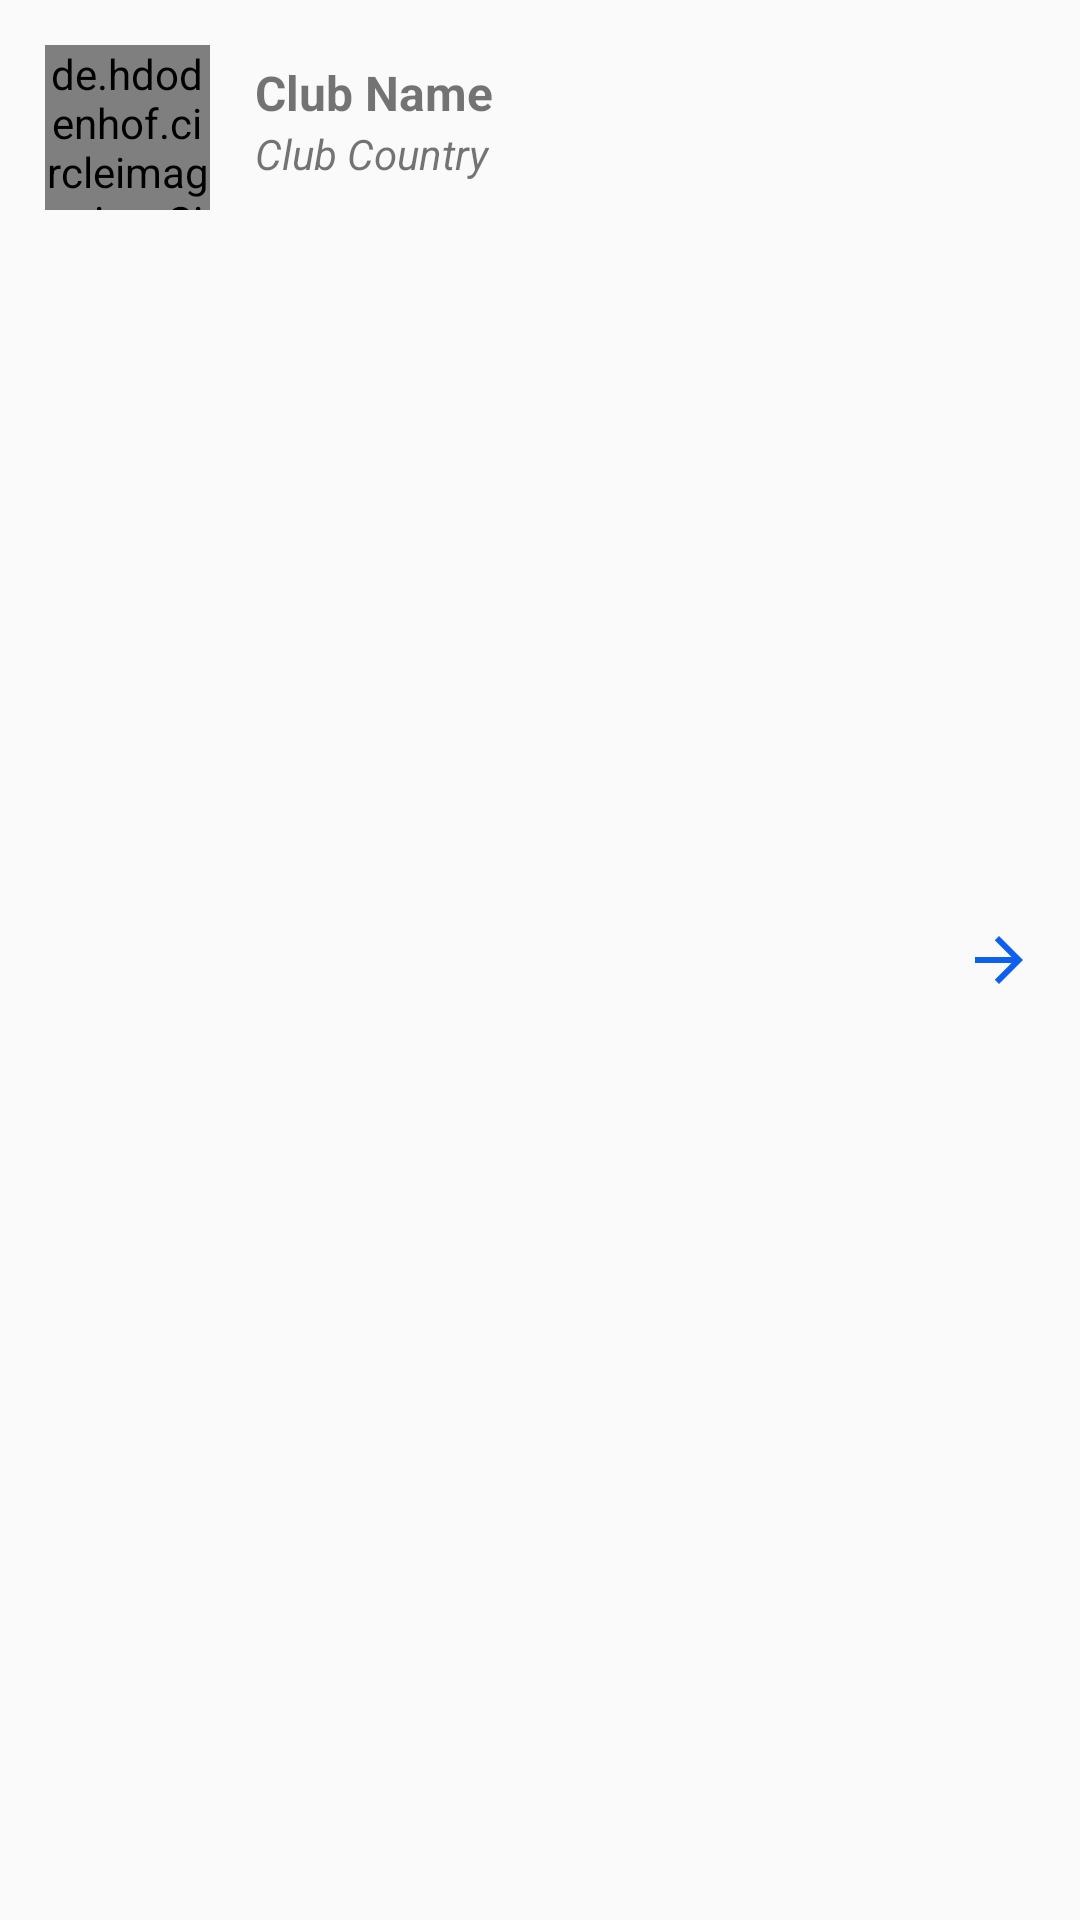

Screen size 1080×1920. Icon name, then its box in pixels as [x1=x1, y1=y1, x2=x2, y2=y2]:
arrow forward: [x1=975, y1=936, x2=1023, y2=984]
